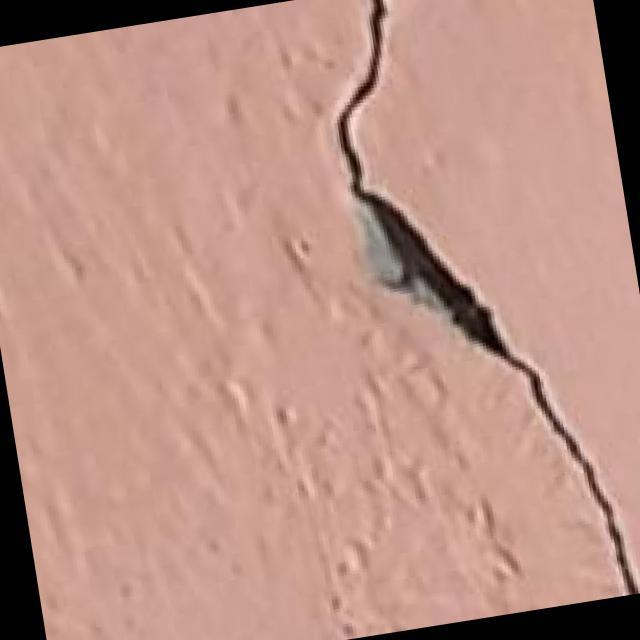crack: (295, 0, 640, 629)
